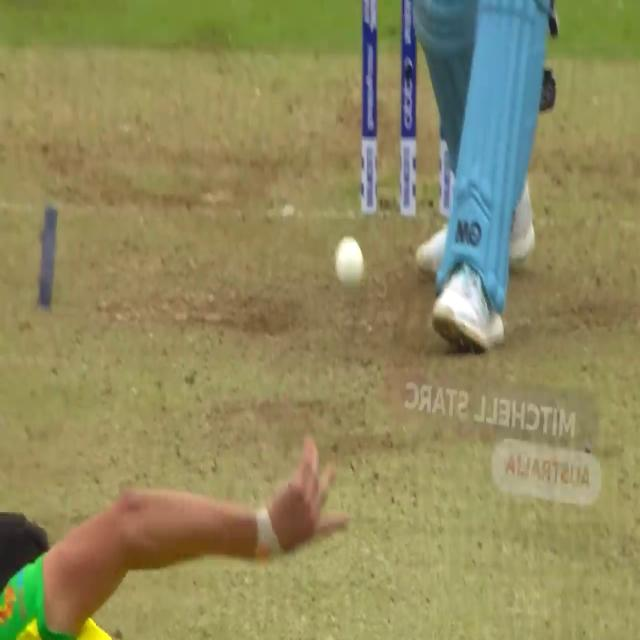ball: (332, 236, 365, 288)
